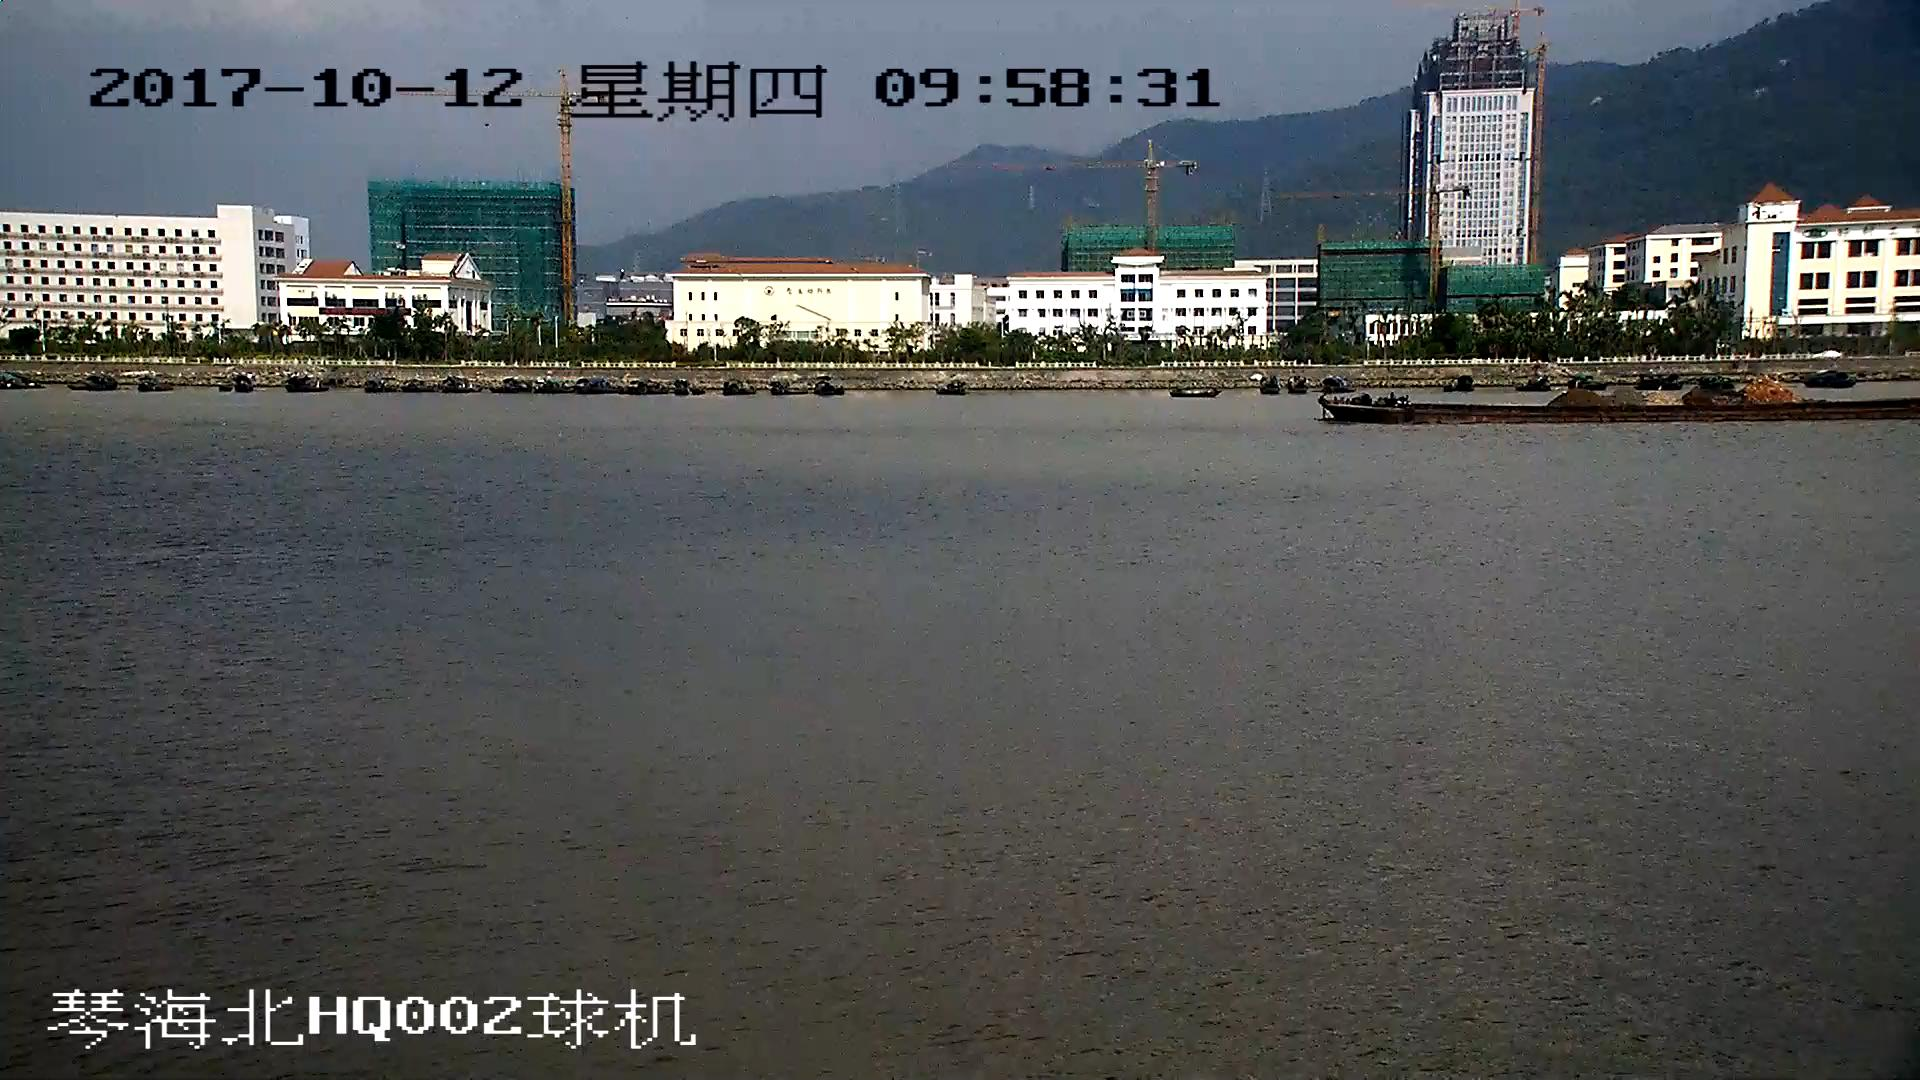ore carrier: (1321, 383, 1920, 424)
